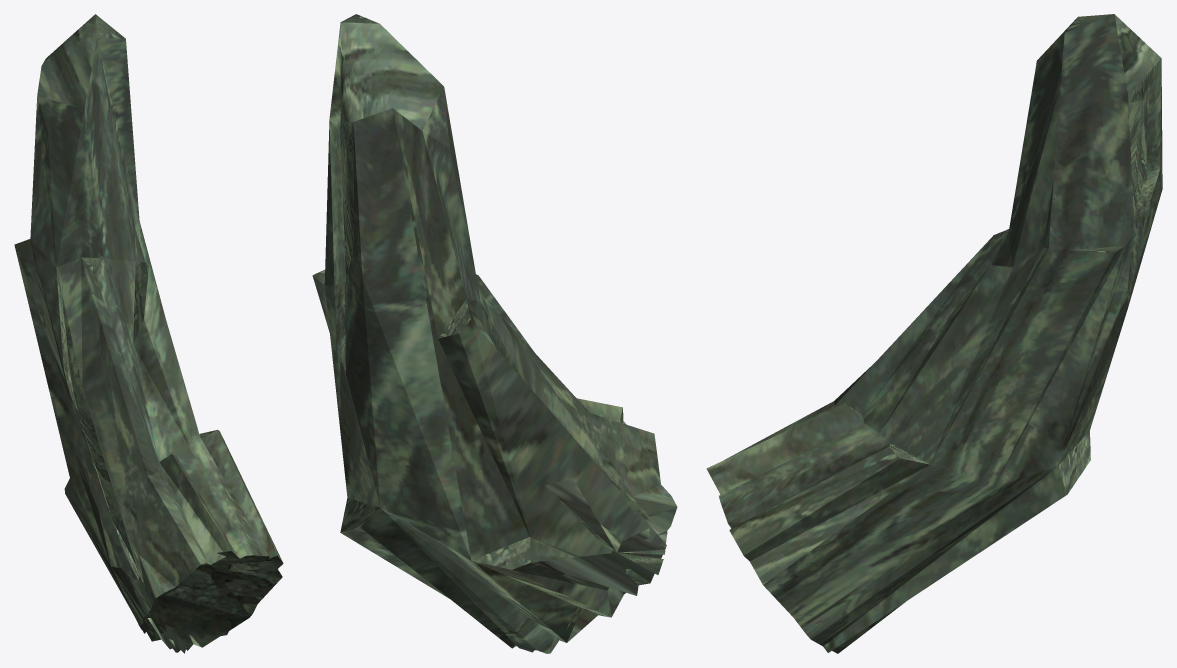
File: 10104_CStone03.FBX
3 views of the same model, side by side, from view 1: azimuth 30°, elevation 25°; view 2: azimuth 150°, elevation 25°; view 3: azimuth 270°, elevation 25° (orthographic). The views are drawn at different scales.
Parts seen in each view (by area): view 1: objBM_A_artifact022; view 2: objBM_A_artifact022; view 3: objBM_A_artifact022.
Boxes of the visible parts, x1,y1,x2,y2 form: objBM_A_artifact022: (14,14,283,653); objBM_A_artifact022: (312,14,677,653); objBM_A_artifact022: (706,14,1162,653).
Bounding box in the file's own units: 140 × 541 × 347.
